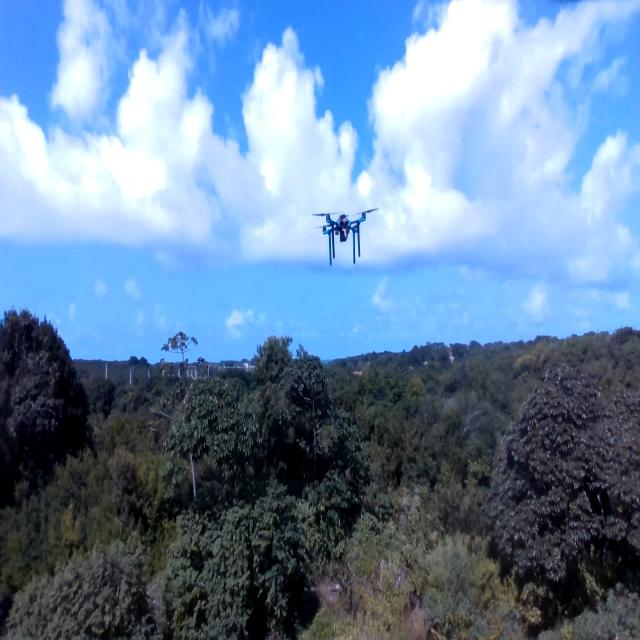-uav-: (304, 202, 384, 272)
